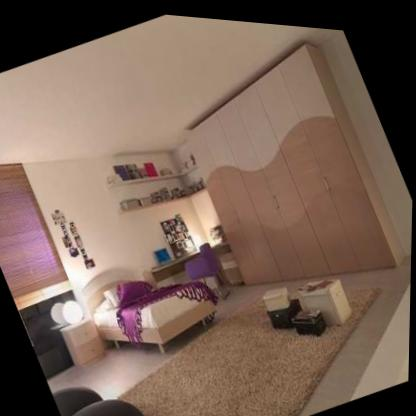Bed: (73, 227, 236, 389)
Chair: (177, 223, 240, 308)
Closet: (155, 15, 415, 327)
